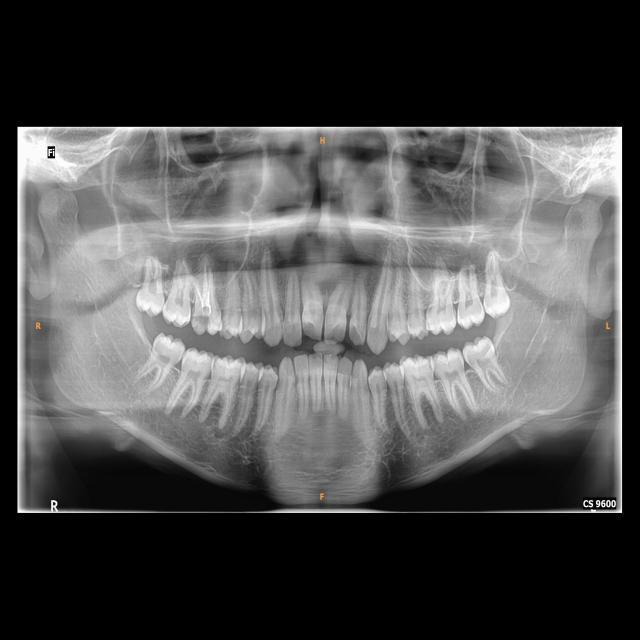dentin-curugu: (189, 309, 214, 337)
kanal-tedavisi: (191, 270, 212, 312)
